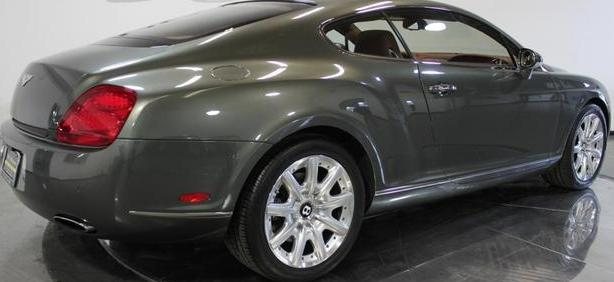back_view: (0, 51, 162, 248)
backlight: (50, 83, 140, 151)
side_glass: (322, 2, 529, 75)
